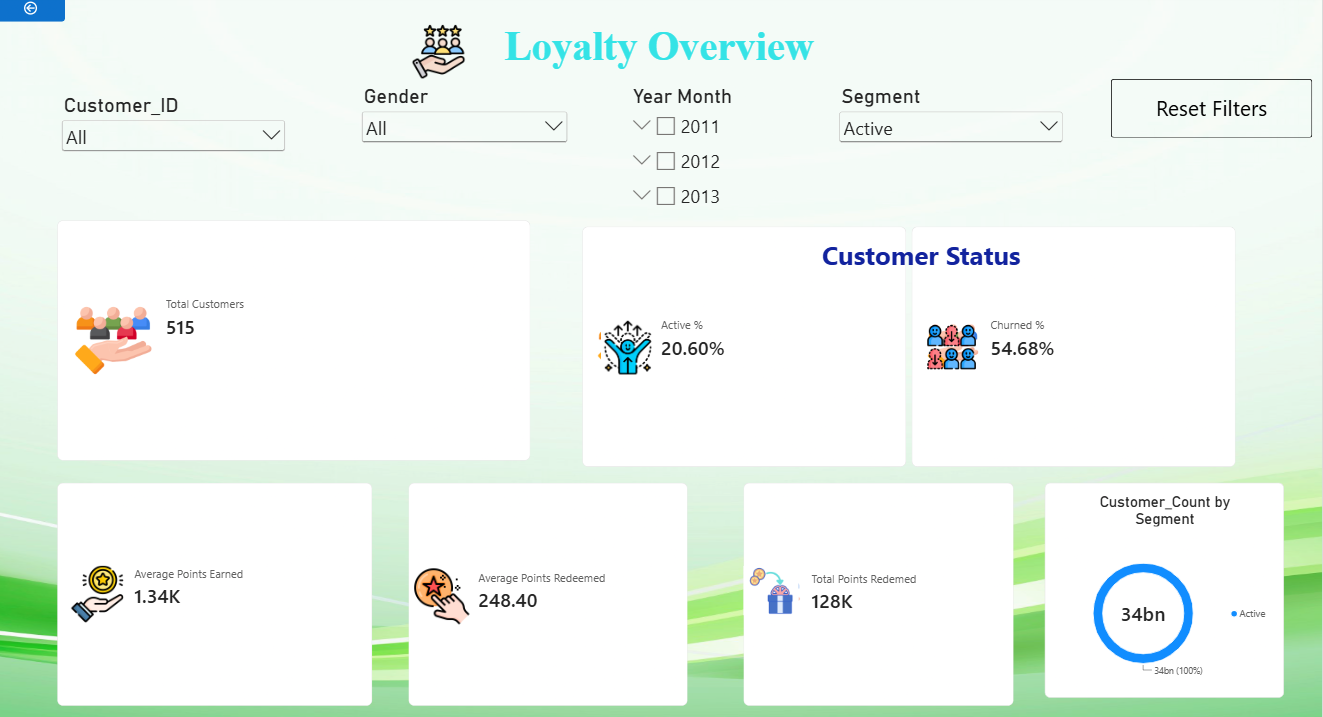

Layout of this report page (visuals, bound fields, positions):
{"tool":"powerbi","page":{"name":"Loyalty Overview","canvas":[1920,1080],"ordinal":0},"visuals":[{"type":"cardVisual","title":"Total Customers","fields":{"Data":["CountNonNull(customer.Customer_ID)"]},"box":[89.4,327.7,685.2,348.2],"z":0},{"type":"textbox","box":[0,43.2,1920.4,117.3],"z":1000},{"type":"cardVisual","fields":{"Data":["customer.Avg_Points_Earned"]},"box":[89.4,707.5,456.2,324],"z":2000},{"type":"cardVisual","fields":{"Data":["Sum(customer.Points_redemed)"]},"box":[1081.8,707.5,391,324],"z":3000},{"type":"slicer","fields":{"Values":["customer.Gender"]},"box":[525.1,130.3,307.2,243.9],"z":4000},{"type":"cardVisual","fields":{"Data":["customer.Avg_Points_Redeemed"]},"box":[597.7,707.5,404,324],"z":5000},{"type":"cardVisual","title":"Customer Status","fields":{"Data":["customer.Active %","customer.Churned %"]},"box":[849,337,947.7,348.2],"z":6000},{"type":"slicer","fields":{"Values":["customer.Segment"]},"box":[1215.8,130.3,333,349.3],"z":7000},{"type":"actionButton","box":[1614.3,122.9,291.4,85.1],"z":8000},{"type":"image","box":[544.7,43.4,191.8,79.6],"z":9000},{"type":"image","box":[597.7,828.6,96.8,85.6],"z":10000},{"type":"image","box":[1081.8,828.6,80.1,70.8],"z":11000},{"type":"image","box":[875.1,472.9,77.8,79.6],"z":12000},{"type":"image","box":[1348,463.6,70.6,95.9],"z":13000},{"type":"textbox","box":[813.7,353.8,1050.1,70.8],"z":14000},{"type":"slicer","fields":{"Values":["Calendar.Year","Calendar.Month"]},"box":[914.2,130.3,333.3,206.7],"z":15000},{"type":"slicer","fields":{"Values":["customer.Customer_ID"]},"box":[91.2,143.4,333,349.3],"z":16000},{"type":"actionButton","box":[0,0,100,40],"z":16001},{"type":"donutChart","fields":{"Category":["customer.Segment"],"Y":["customer.Customer_Count"]},"box":[1517.5,707.5,346.3,310.9],"z":16002}]}

Visuals, with their boxes on the page's 1920x1080 design canvas (x1, y1, x2, y2). These are canvas units, not pixel positions in the 1323x717 screenshot, which may show the page scaled, cropped or inside an application window:
"Total Customers" cardVisual: pyautogui.locateOnScreen(89, 328, 775, 676)
textbox: pyautogui.locateOnScreen(0, 43, 1920, 160)
cardVisual - customer.Avg_Points_Earned: pyautogui.locateOnScreen(89, 708, 546, 1032)
cardVisual - Sum(customer.Points_redemed): pyautogui.locateOnScreen(1082, 708, 1473, 1032)
slicer - customer.Gender: pyautogui.locateOnScreen(525, 130, 832, 374)
cardVisual - customer.Avg_Points_Redeemed: pyautogui.locateOnScreen(598, 708, 1002, 1032)
"Customer Status" cardVisual: pyautogui.locateOnScreen(849, 337, 1797, 685)
slicer - customer.Segment: pyautogui.locateOnScreen(1216, 130, 1549, 480)
actionButton: pyautogui.locateOnScreen(1614, 123, 1906, 208)
image: pyautogui.locateOnScreen(545, 43, 736, 123)
image: pyautogui.locateOnScreen(598, 829, 694, 914)
image: pyautogui.locateOnScreen(1082, 829, 1162, 899)
image: pyautogui.locateOnScreen(875, 473, 953, 552)
image: pyautogui.locateOnScreen(1348, 464, 1419, 560)
textbox: pyautogui.locateOnScreen(814, 354, 1864, 425)
slicer - Calendar.Year x Calendar.Month: pyautogui.locateOnScreen(914, 130, 1248, 337)
slicer - customer.Customer_ID: pyautogui.locateOnScreen(91, 143, 424, 493)
actionButton: pyautogui.locateOnScreen(0, 0, 100, 40)
donutChart - customer.Segment x customer.Customer_Count: pyautogui.locateOnScreen(1518, 708, 1864, 1018)
